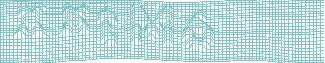6: (180, 10, 216, 54)
M: (127, 1, 176, 48)
t: (94, 5, 120, 49)
x: (11, 1, 50, 41), (57, 1, 92, 37)
